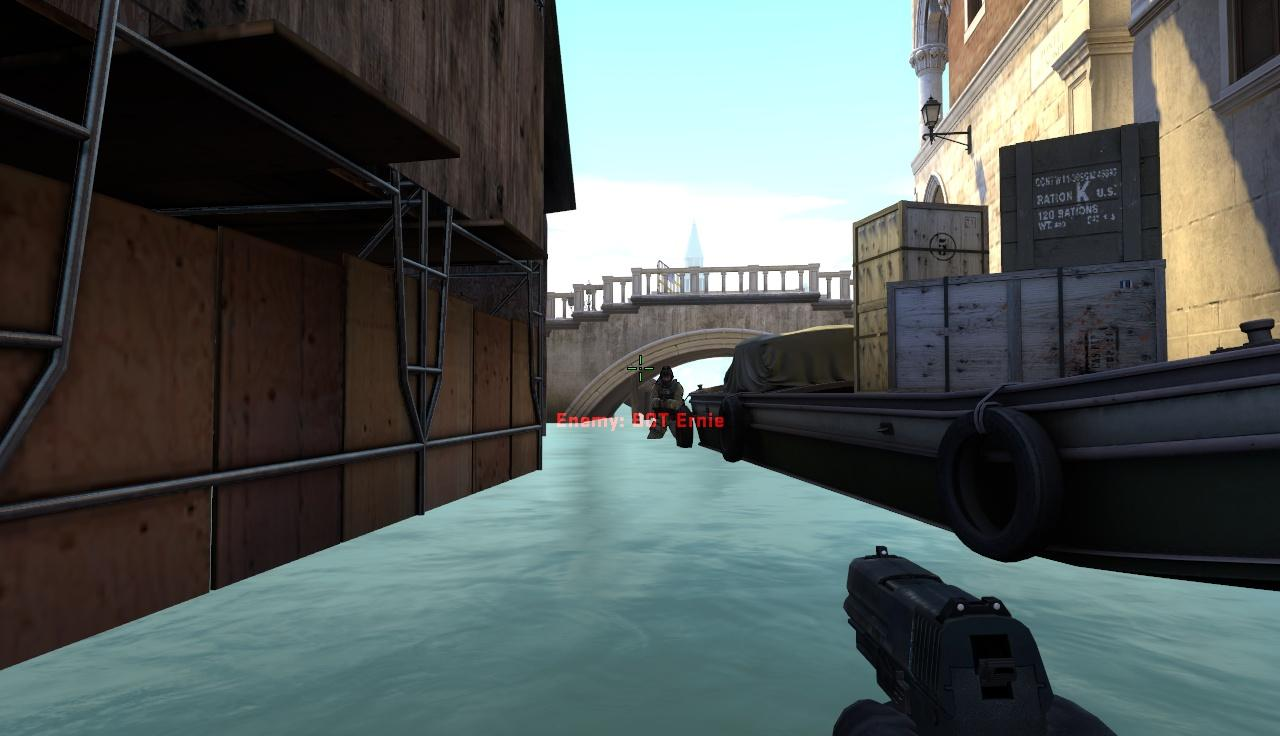ct: (652, 365, 683, 440)
cthead: (658, 366, 673, 384)
pistol: (833, 540, 1088, 736)
